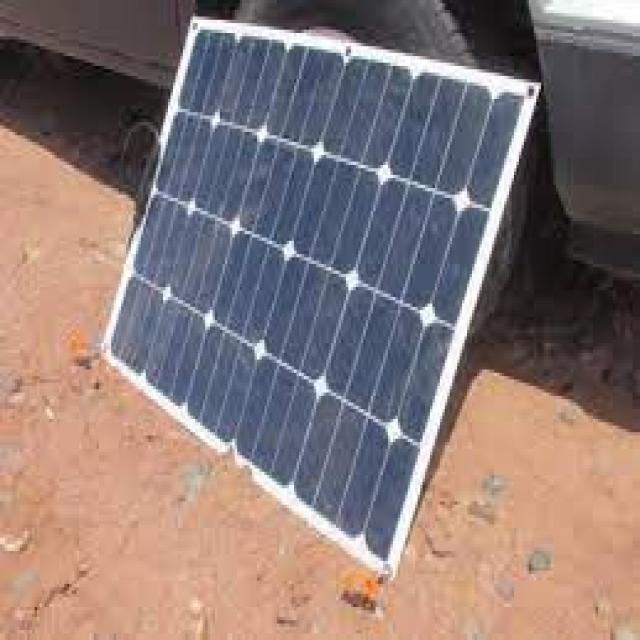faulty: (105, 14, 525, 559)
